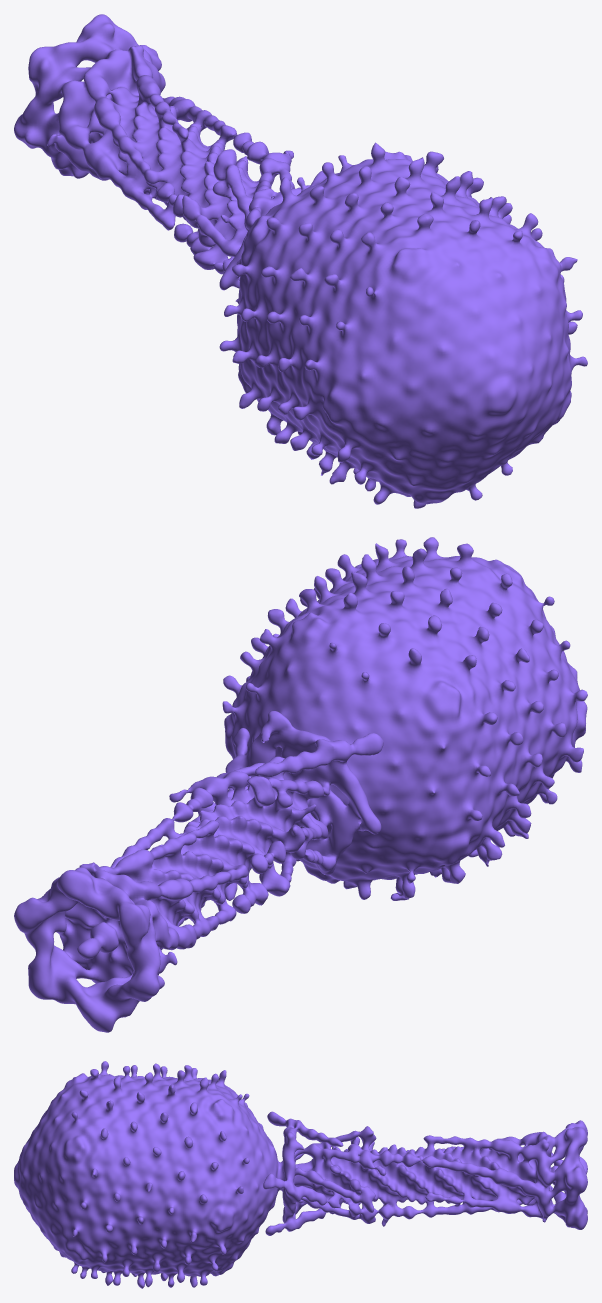
The model's file is bacteriofago-t4.glb.
3 renders of one model, top to bottom at view 1: azimuth 30°, elevation 25°; view 2: azimuth 150°, elevation 25°; view 3: azimuth 270°, elevation 25°, orthographic. The views are drawn at different scales.
Parts seen in each view (by area): view 1: Bacteriófago T4; view 2: Bacteriófago T4; view 3: Bacteriófago T4.
Part boxes in pixels (left/top/right/bottom): Bacteriófago T4: left=14, top=14, right=587, bottom=508; Bacteriófago T4: left=14, top=537, right=587, bottom=1032; Bacteriófago T4: left=14, top=1061, right=587, bottom=1288.
Bounding box in the file's own units: 5165 × 5228 × 13107.
